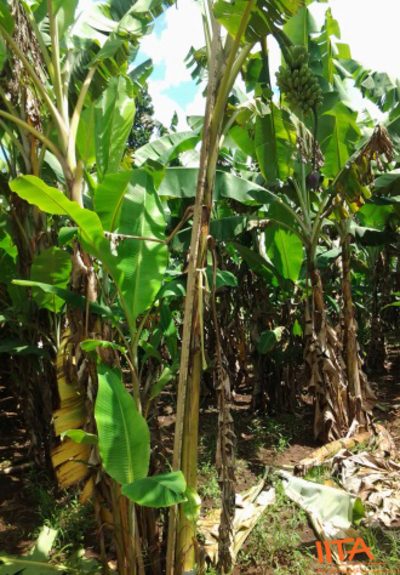bananaHand: (273, 40, 325, 116)
